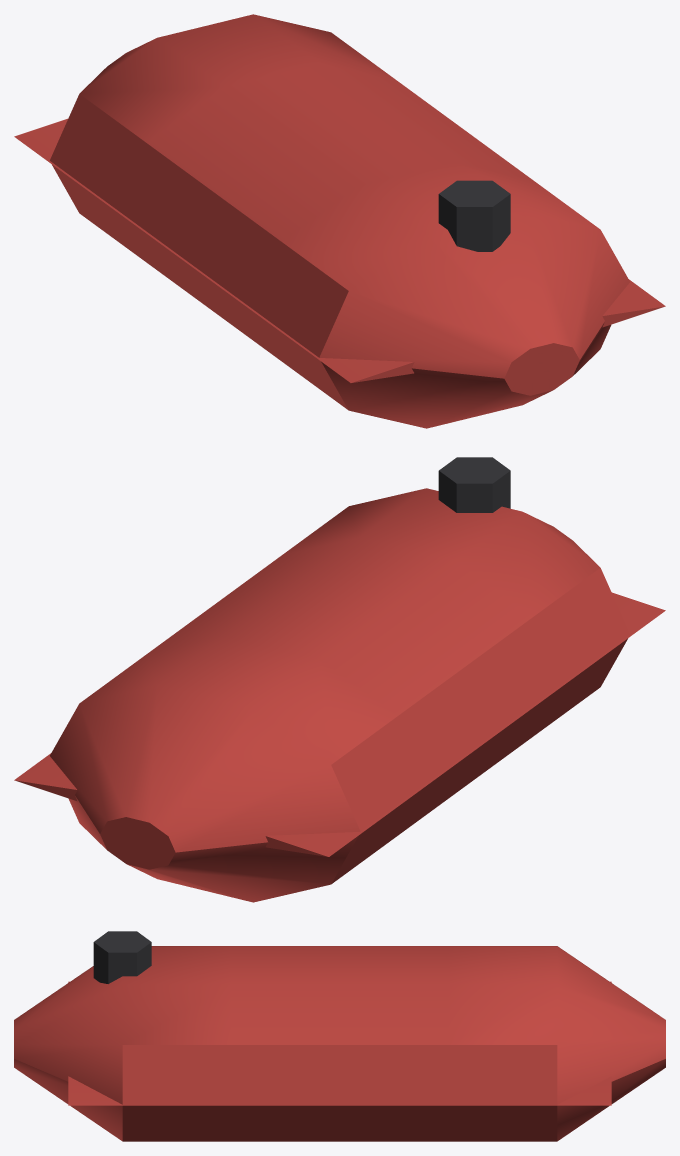
The model's file is bladder_lod1.glb.
3 renders of one model, top to bottom at view 1: azimuth 30°, elevation 25°; view 2: azimuth 150°, elevation 25°; view 3: azimuth 270°, elevation 25°, orthographic. The views are drawn at different scales.
Visible parts, largest first — view 1: bladder_lod1; view 2: bladder_lod1; view 3: bladder_lod1.
Boxes of the visible parts, x1,y1,x2,y2 form: bladder_lod1: [14, 14, 665, 428]; bladder_lod1: [14, 457, 665, 902]; bladder_lod1: [14, 931, 665, 1141].
Size of the model in its own units: 0.162 by 0.1096 by 0.36.
